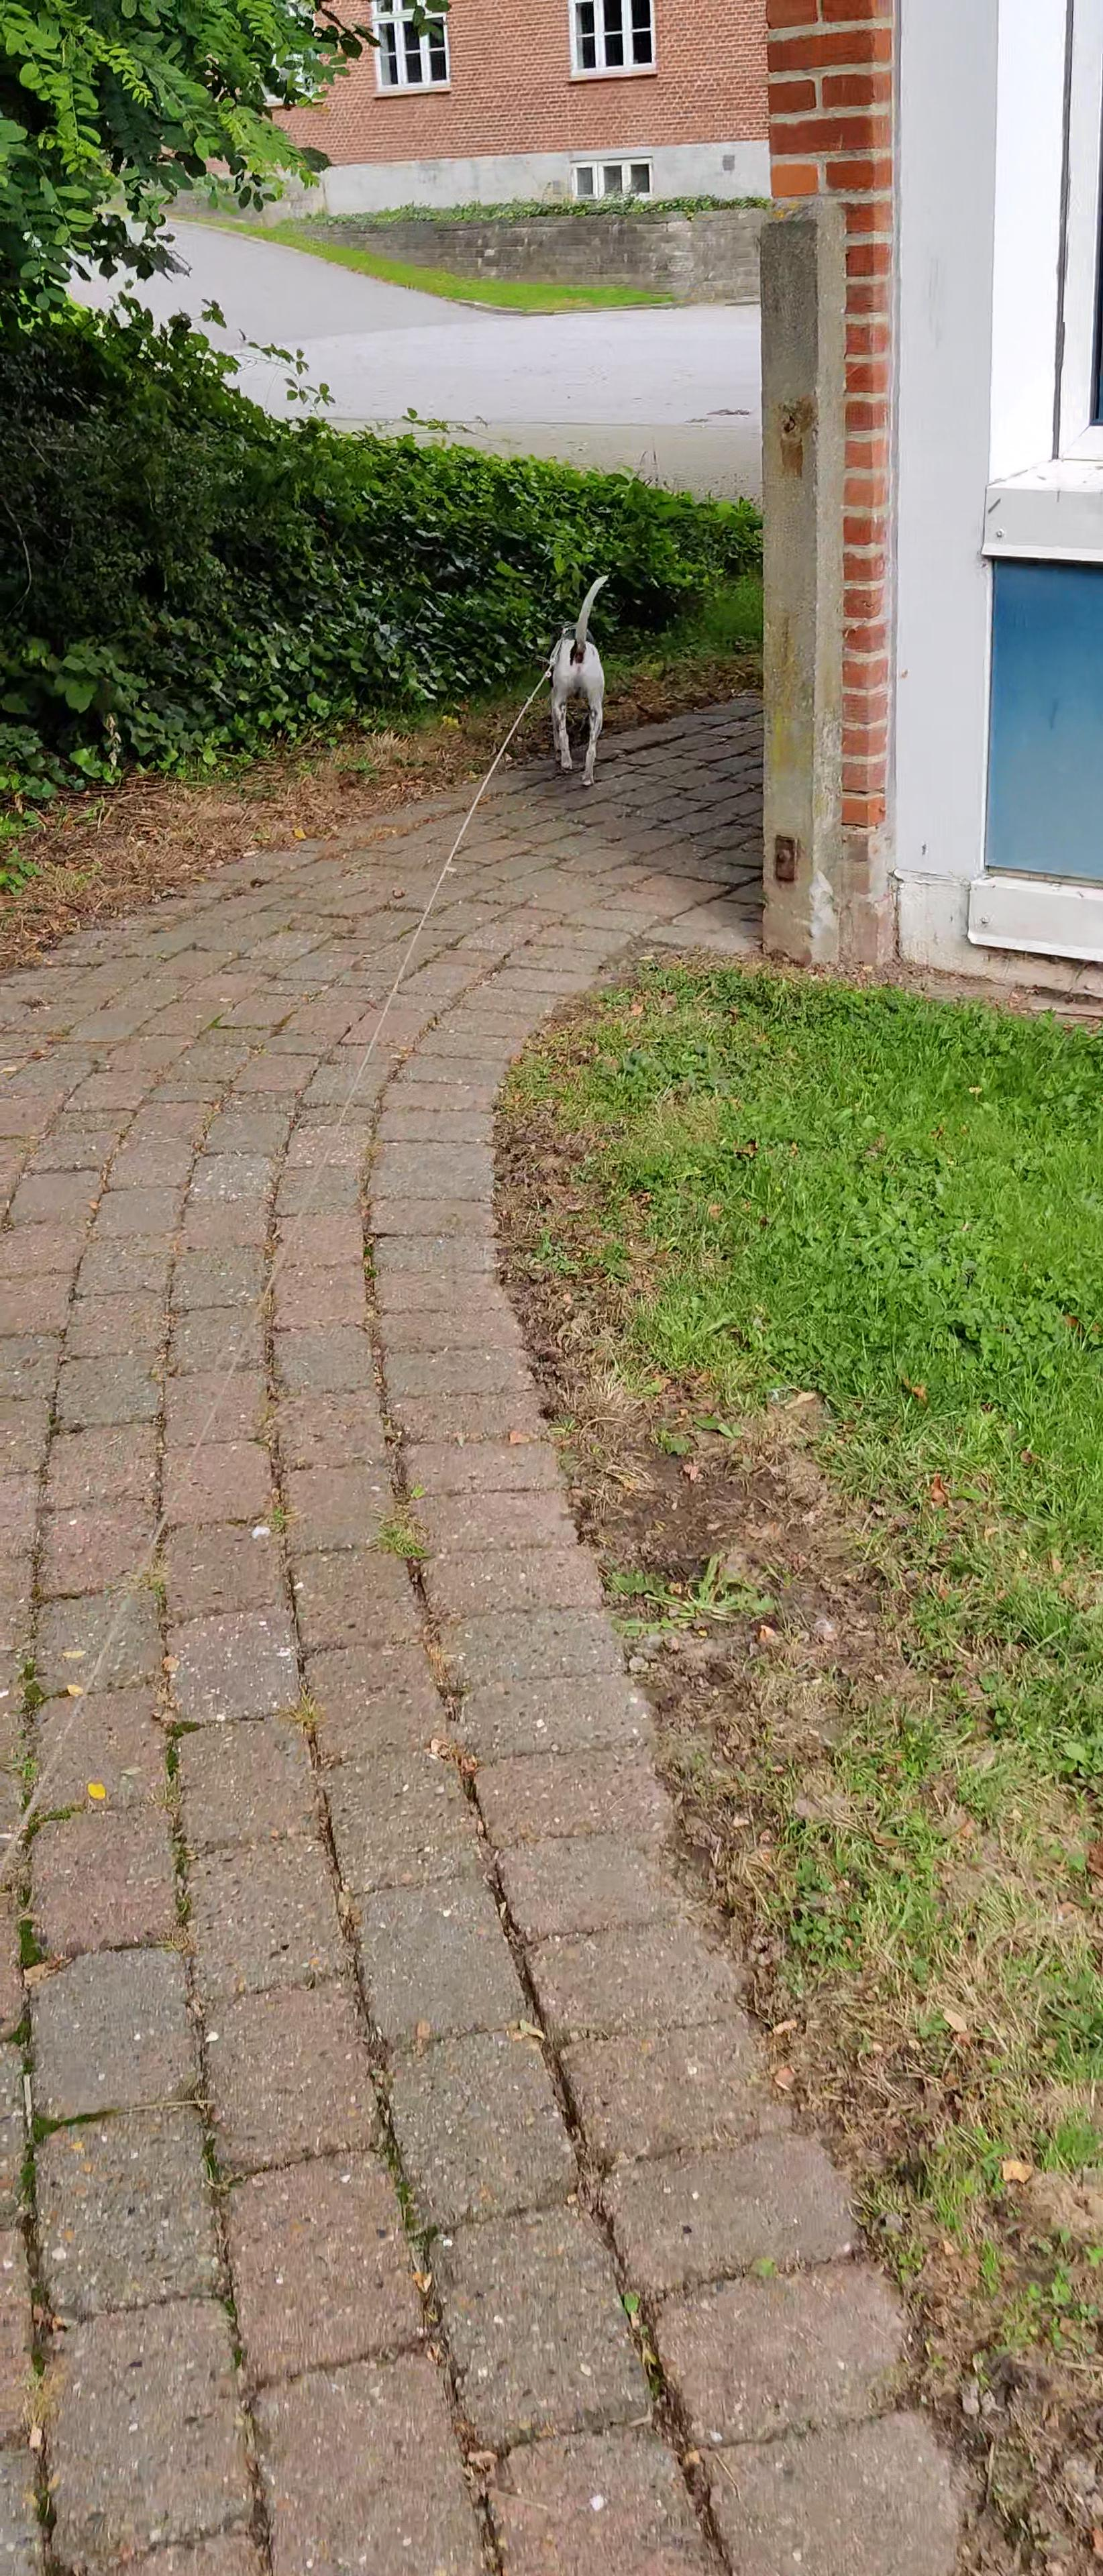Dog: (521, 567, 626, 793)
